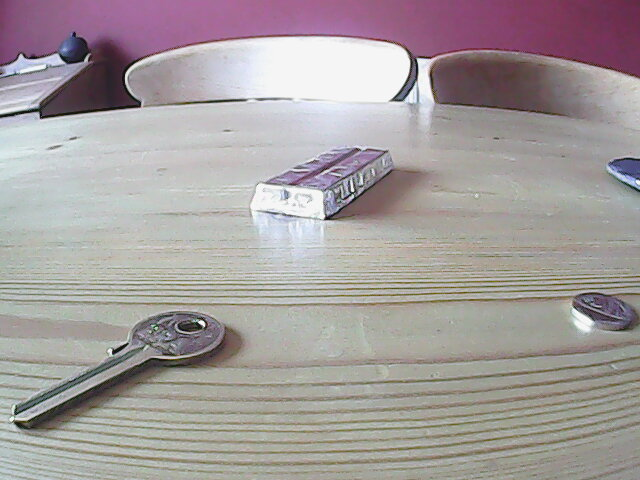Coin: (567, 288, 636, 333)
Foil: (246, 144, 400, 225)
Key: (9, 308, 229, 430)
